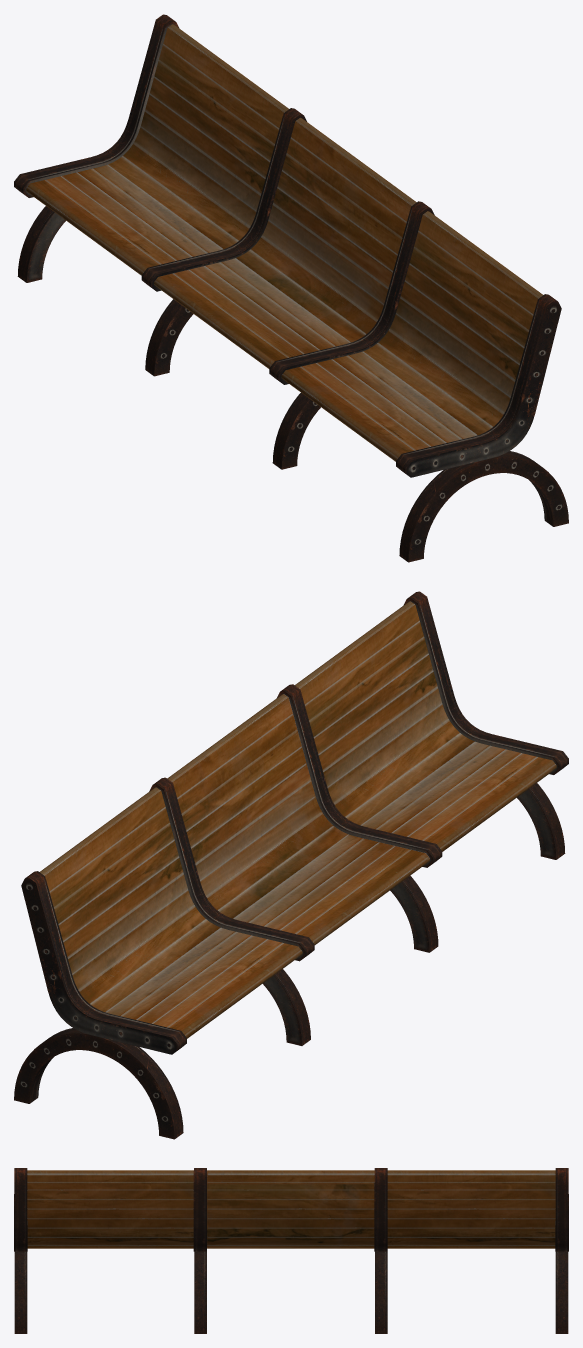
File: SM_Bench03.FBX
3 views of the same model, one above another, from view 1: azimuth 30°, elevation 25°; view 2: azimuth 150°, elevation 25°; view 3: azimuth 270°, elevation 25° (orthographic). The views are drawn at different scales.
Parts seen in each view (by area): view 1: SM_Bench03; view 2: SM_Bench03; view 3: SM_Bench03.
Boxes of the visible parts, x1,y1,x2,y2 form: SM_Bench03: (14, 14, 568, 562); SM_Bench03: (14, 591, 568, 1139); SM_Bench03: (14, 1168, 568, 1333).
Size of the model in its own units: 77.02 by 318 by 102.
